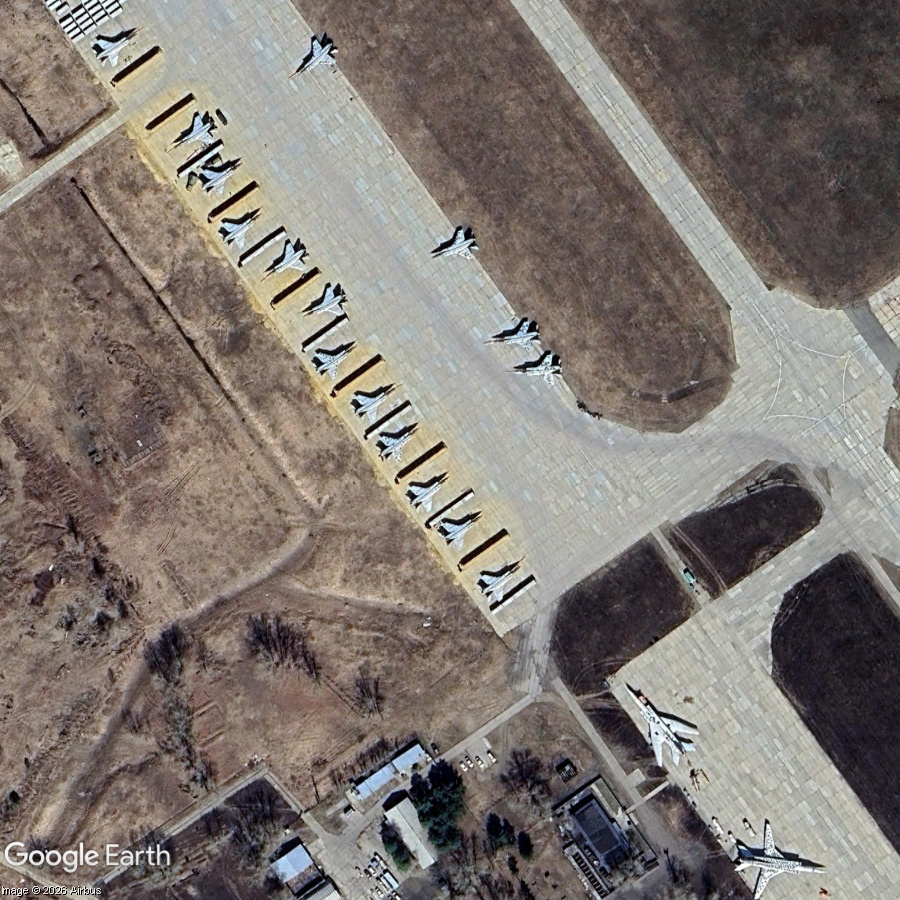Máy bay chiến đấu: (280, 27, 349, 93), (82, 12, 152, 77), (209, 195, 276, 259), (468, 547, 536, 610), (397, 459, 463, 523), (365, 410, 432, 473), (342, 370, 409, 432), (304, 327, 369, 389), (253, 233, 319, 294), (160, 105, 227, 165), (430, 497, 495, 558), (190, 145, 254, 205), (423, 220, 487, 276), (294, 280, 354, 333), (481, 314, 546, 362), (506, 350, 566, 392)
Máy bay ném bom: (600, 661, 715, 781), (728, 818, 831, 900)
Nhà/Hầm chứa máy bay: (266, 839, 318, 888)
